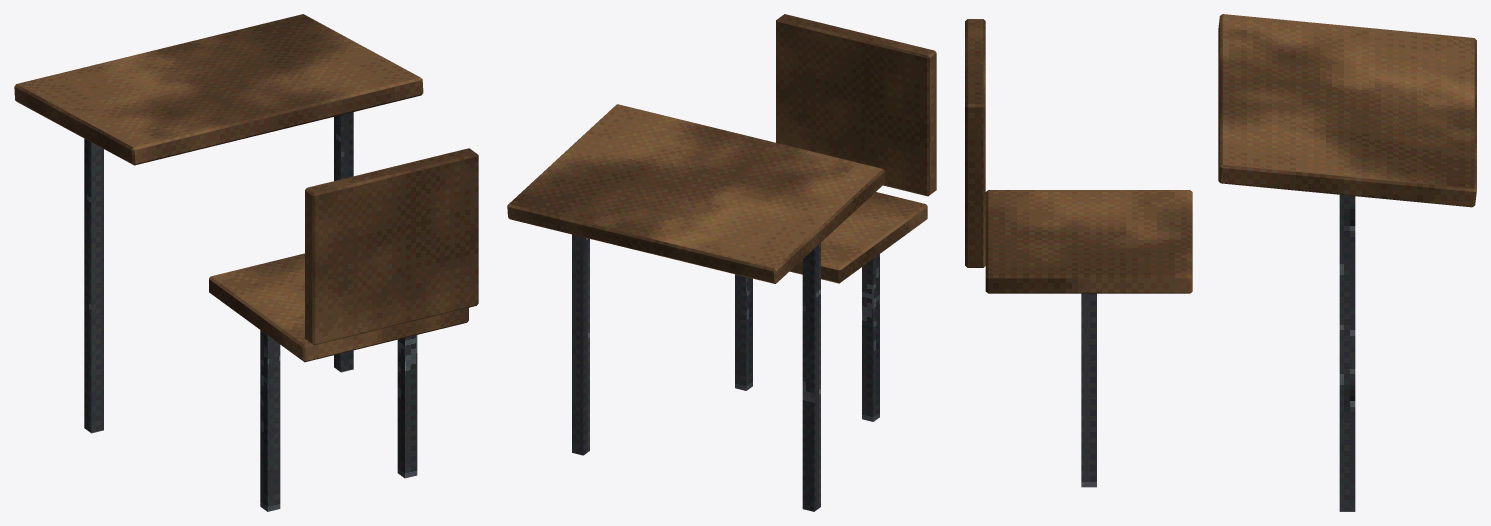
The model's file is int_school_desk.glb.
3 renders of one model, left to right at view 1: azimuth 30°, elevation 25°; view 2: azimuth 150°, elevation 25°; view 3: azimuth 270°, elevation 25°, orthographic. The views are drawn at different scales.
Parts seen in each view (by area): view 1: int_school_desk_mesh; view 2: int_school_desk_mesh; view 3: int_school_desk_mesh.
Part boxes in pixels (x1,y1,x2,y2): int_school_desk_mesh: (14,14,478,511); int_school_desk_mesh: (507,14,936,511); int_school_desk_mesh: (965,14,1476,511).
Size of what is drawn, in the model's own units: 0.7 by 0.825 by 0.9902.
2 materials, 2 textured.
